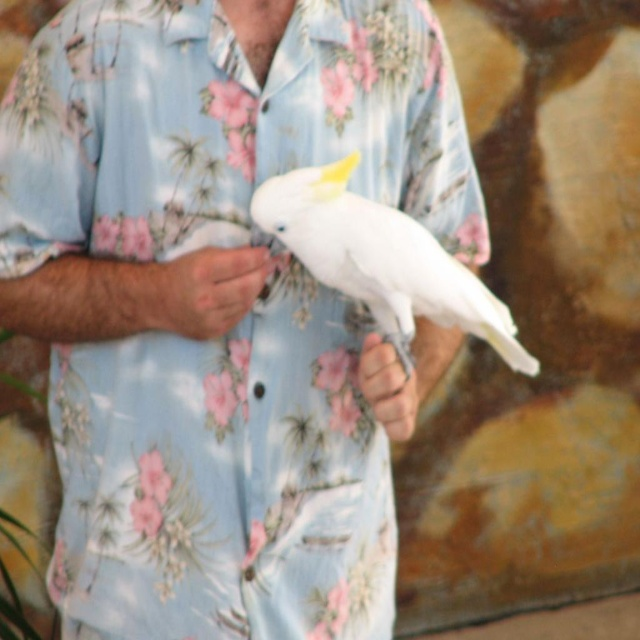Parrot: (250, 148, 539, 382)
